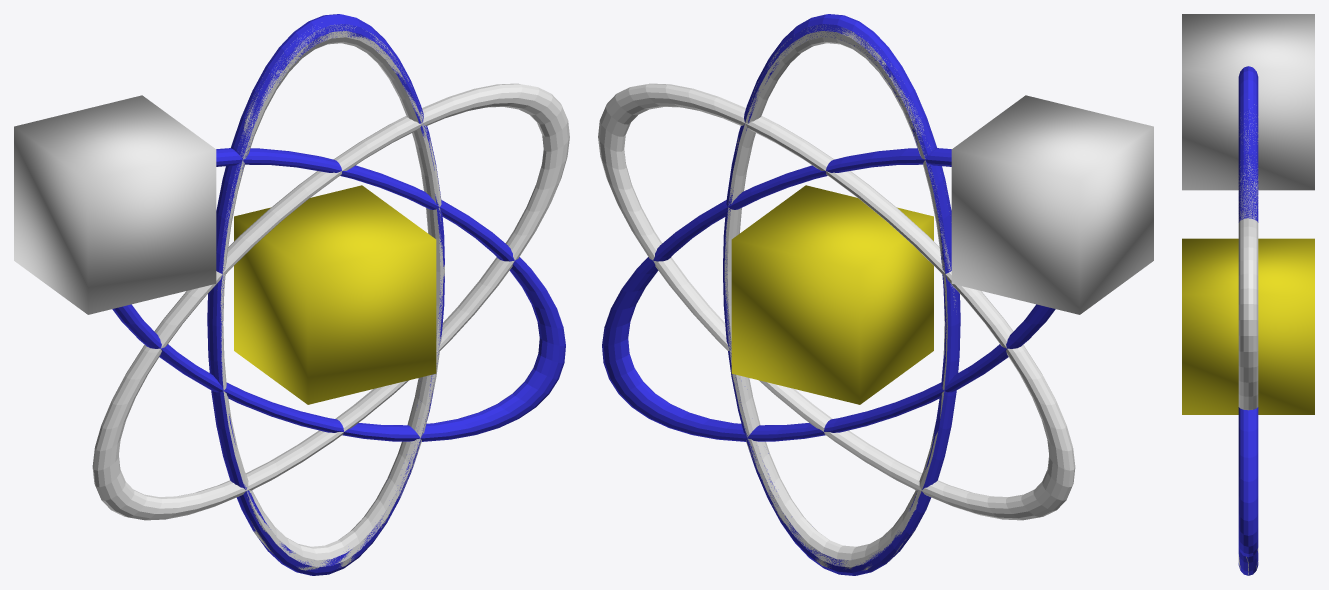
The model's file is mujeres.glb.
3 views of the same model, side by side, from view 1: azimuth 30°, elevation 25°; view 2: azimuth 150°, elevation 25°; view 3: azimuth 270°, elevation 25° (orthographic). The views are drawn at different scales.
Visible parts, largest first — view 1: Cube.002; view 2: Cube.002; view 3: Cube.002.
Boxes of the visible parts, x1,y1,x2,y2 form: Cube.002: (14, 14, 569, 575); Cube.002: (598, 14, 1153, 575); Cube.002: (1182, 14, 1314, 575).
Bounding box in the file's own units: 0.1819 × 0.1876 × 0.0451.
